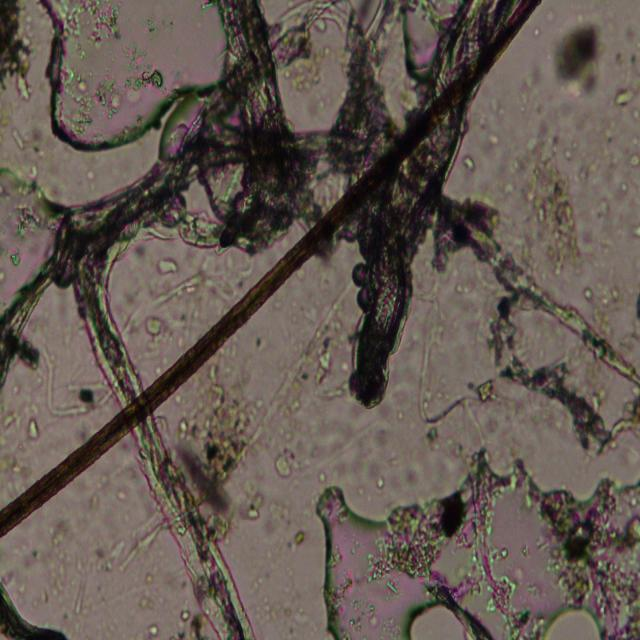Air bubble: (309, 461, 640, 638), (40, 1, 222, 156)
Background material: (497, 353, 640, 449), (181, 352, 273, 494), (466, 472, 529, 637), (126, 245, 224, 348), (519, 132, 587, 277), (550, 501, 640, 608), (377, 486, 457, 584), (78, 521, 156, 613), (309, 400, 395, 481), (585, 100, 640, 192), (40, 346, 108, 417), (0, 163, 58, 246), (57, 62, 121, 135), (550, 16, 602, 99), (0, 579, 70, 637), (580, 284, 640, 348), (296, 326, 344, 399), (0, 1, 34, 104), (281, 40, 330, 110), (56, 0, 122, 45), (468, 104, 516, 162), (0, 113, 49, 163), (275, 495, 315, 555), (0, 398, 32, 472), (44, 514, 74, 588), (122, 52, 164, 94), (270, 440, 302, 482), (18, 339, 46, 378), (609, 76, 640, 111), (142, 8, 170, 46), (238, 483, 262, 524), (473, 371, 496, 403), (170, 604, 193, 634), (424, 423, 446, 448), (626, 212, 640, 247), (26, 416, 42, 445), (142, 619, 166, 635), (464, 142, 473, 183)
Cellulose filter fibre: (1, 128, 350, 374), (78, 239, 255, 638), (348, 1, 506, 407), (444, 187, 640, 387), (216, 2, 310, 248)
Hair textile: (0, 0, 537, 531)
